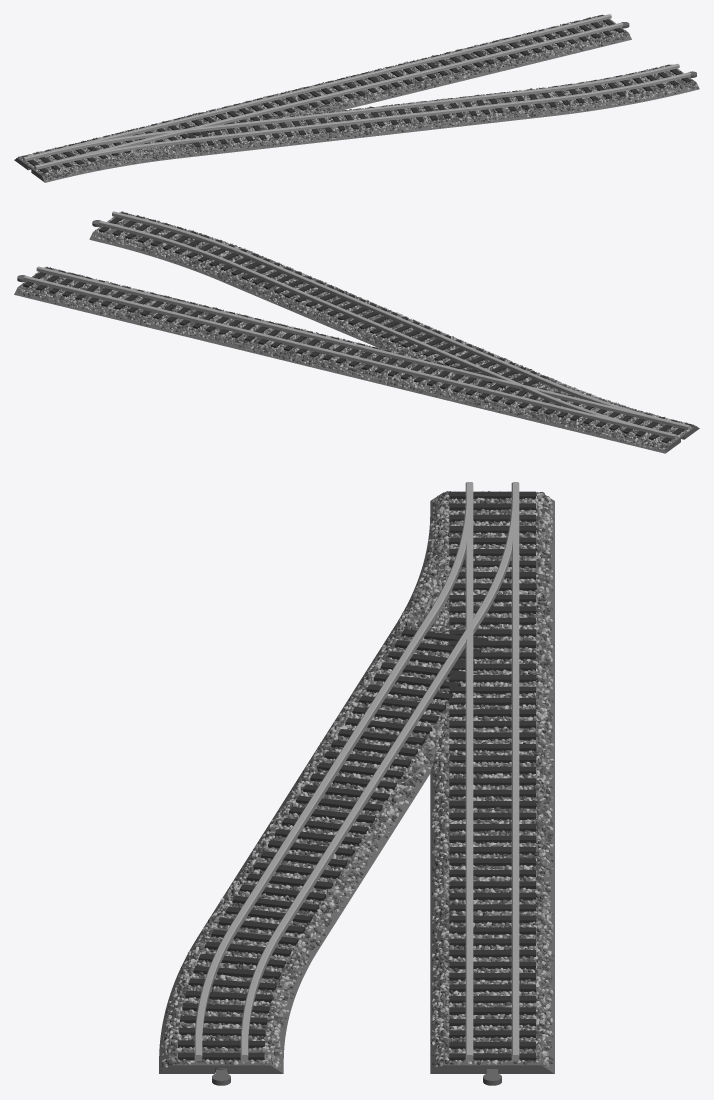
Rendered from Rail_Siding_Right_100.obj.
3 views of the same model, one above another, from view 1: azimuth 30°, elevation 25°; view 2: azimuth 150°, elevation 25°; view 3: azimuth 270°, elevation 25° (orthographic). The views are drawn at different scales.
Parts seen in each view (by area): view 1: Rail_Siding_Right_100; view 2: Rail_Siding_Right_100; view 3: Rail_Siding_Right_100.
Boxes of the visible parts, box(x1,y1,x2,y2) form: Rail_Siding_Right_100: box(14, 14, 699, 182); Rail_Siding_Right_100: box(14, 211, 699, 453); Rail_Siding_Right_100: box(159, 482, 554, 1085).
Size of the model in its own units: 5.1 by 0.0816 by 1.46.
1 material, 1 textured.
